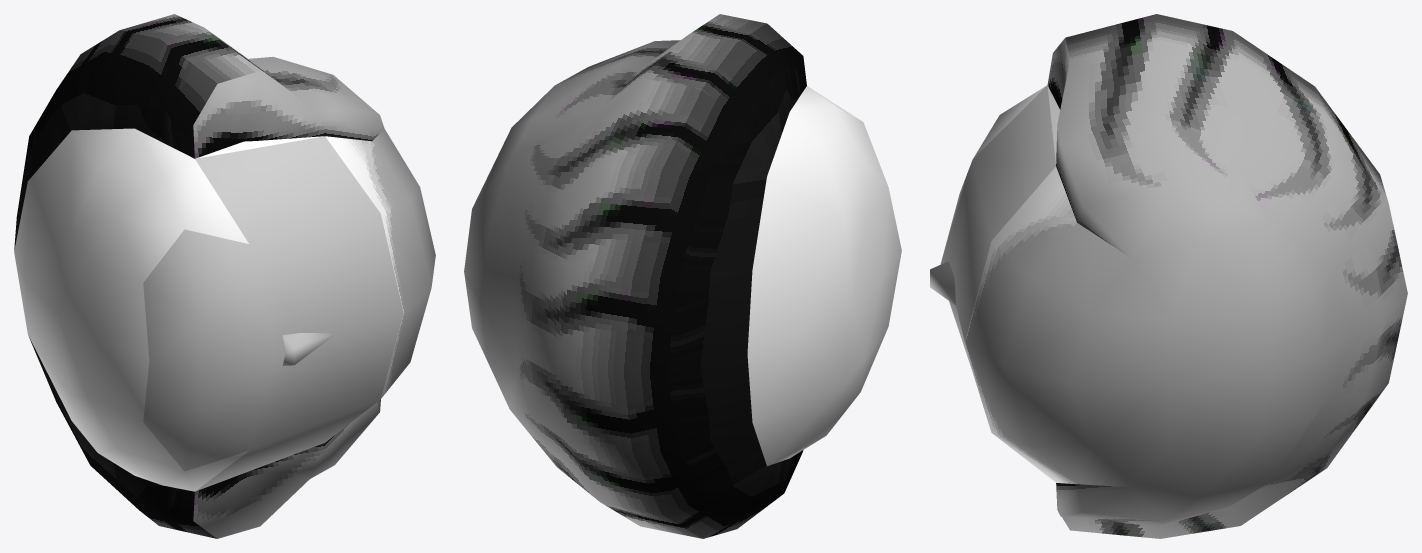
File: girl07a.dae
The picture shows the model from 3 angles, left to right: view 1: azimuth 30°, elevation 25°; view 2: azimuth 150°, elevation 25°; view 3: azimuth 270°, elevation 25°; orthographic projection. The views are drawn at different scales.
Visible parts, largest first — view 1: vsn_mesh_1_, vsn_mesh_0_, vsn_mesh_2_; view 2: vsn_mesh_1_; view 3: vsn_mesh_1_, vsn_mesh_0_.
Boxes of the visible parts, x1,y1,x2,y2 form: vsn_mesh_1_: [14, 14, 435, 538]; vsn_mesh_0_: [195, 136, 403, 491]; vsn_mesh_2_: [143, 229, 274, 471]; vsn_mesh_1_: [464, 14, 901, 538]; vsn_mesh_1_: [965, 14, 1407, 538]; vsn_mesh_0_: [930, 85, 1055, 423].
Bounding box in the file's own units: 20.97 × 27.73 × 23.87.
Materials: 3 (1 with a texture image).
